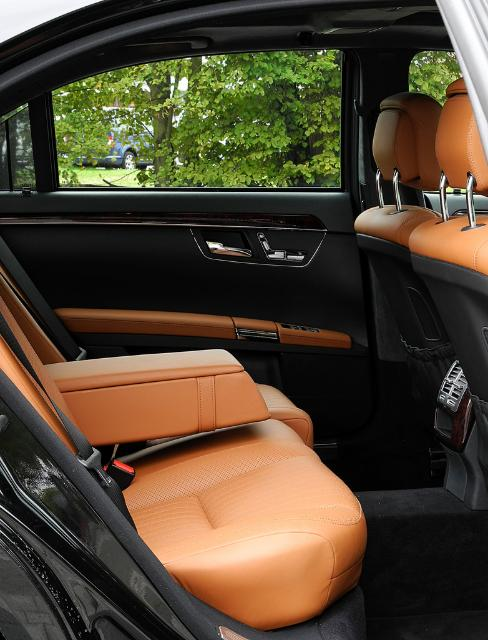Seatbelt: (0, 313, 136, 532)
